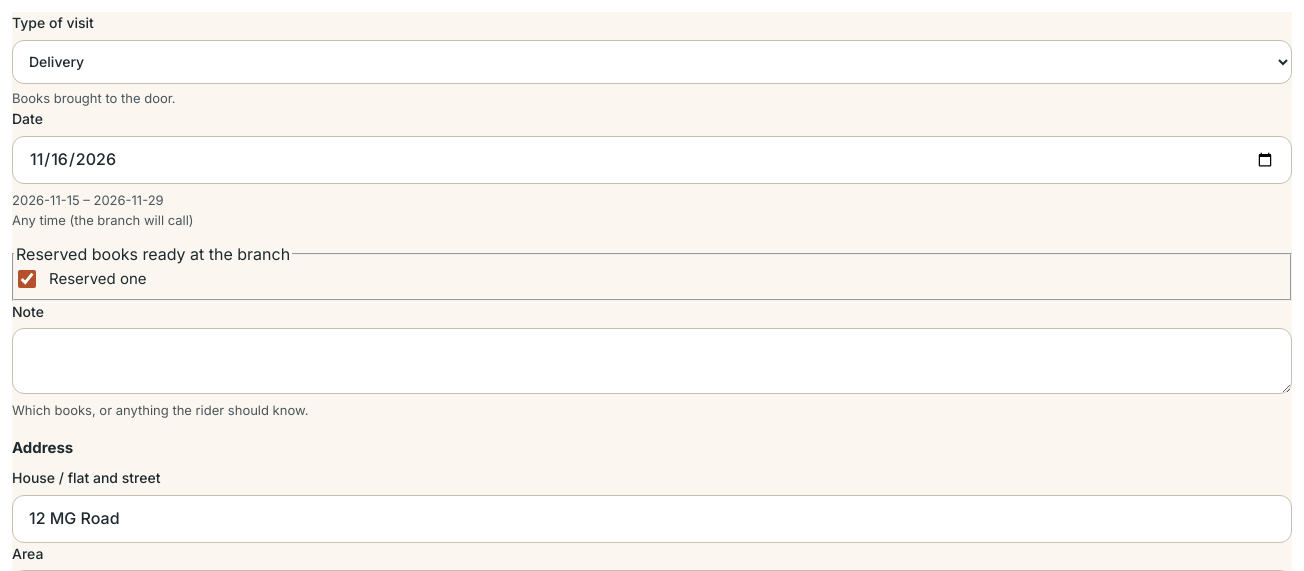
Test case: booking a home visit › ticks the books when the visit is changed to a pickup with none chosen, and leaves an exchange for staff to choose
The image size is (1304, 571).
Later steps or results of the test are not shown.
Select "Exchange" in the dropdown labelled "Type of visit" at (652, 62), box [12,40,1292,84]
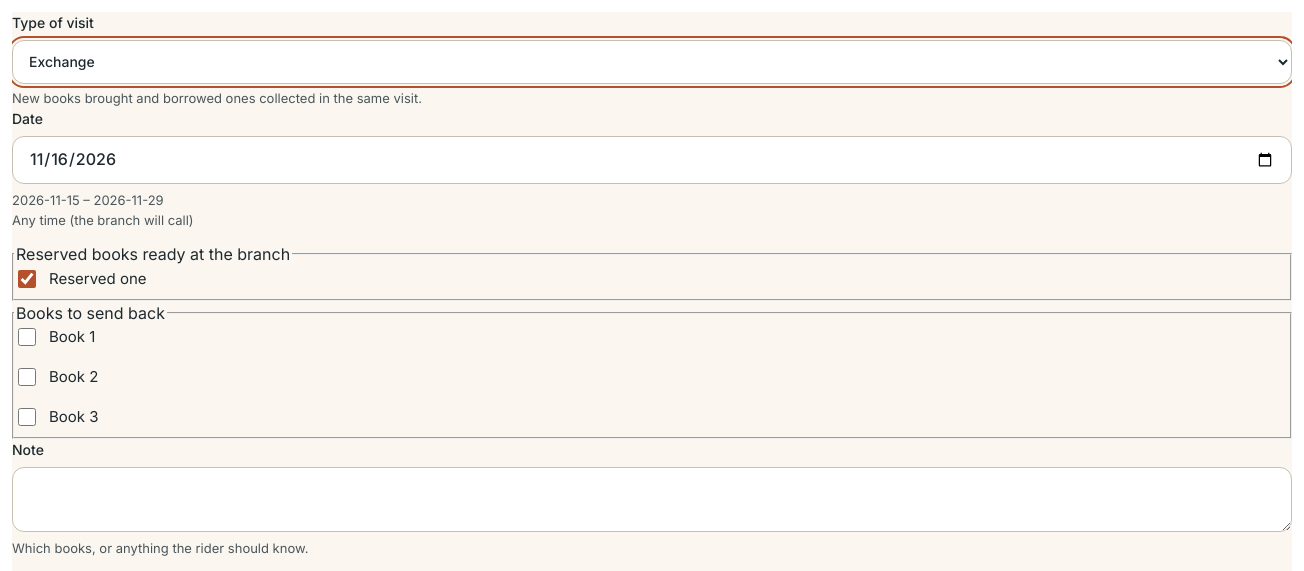
Expected: the checkbox labelled "Book 1" is not checked, [18,328,36,346]
Expected: the checkbox labelled "Book 2" is not checked
Expected: the checkbox labelled "Book 3" is not checked, [18,408,36,426]
// A choice already made is kept when the visit becomes a pickup.
Click the checkbox labelled "Book 2".
click(27, 377)  # box [18,368,36,386]
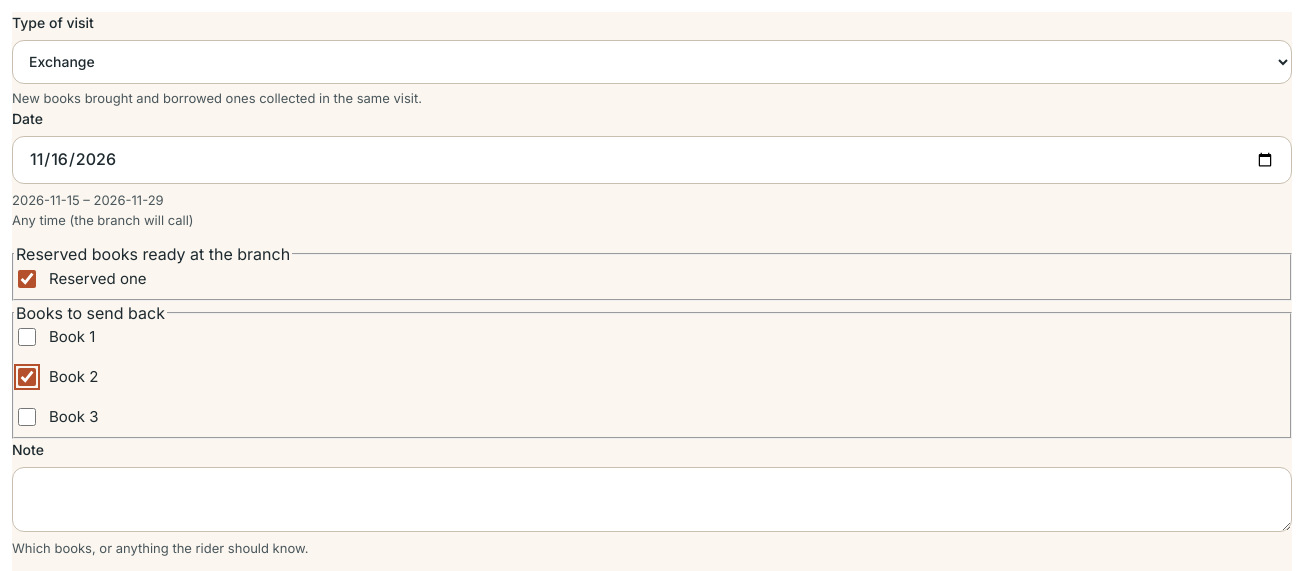
Select "Pickup" in the dropdown labelled "Type of visit" at (652, 62), box [12,40,1292,84]
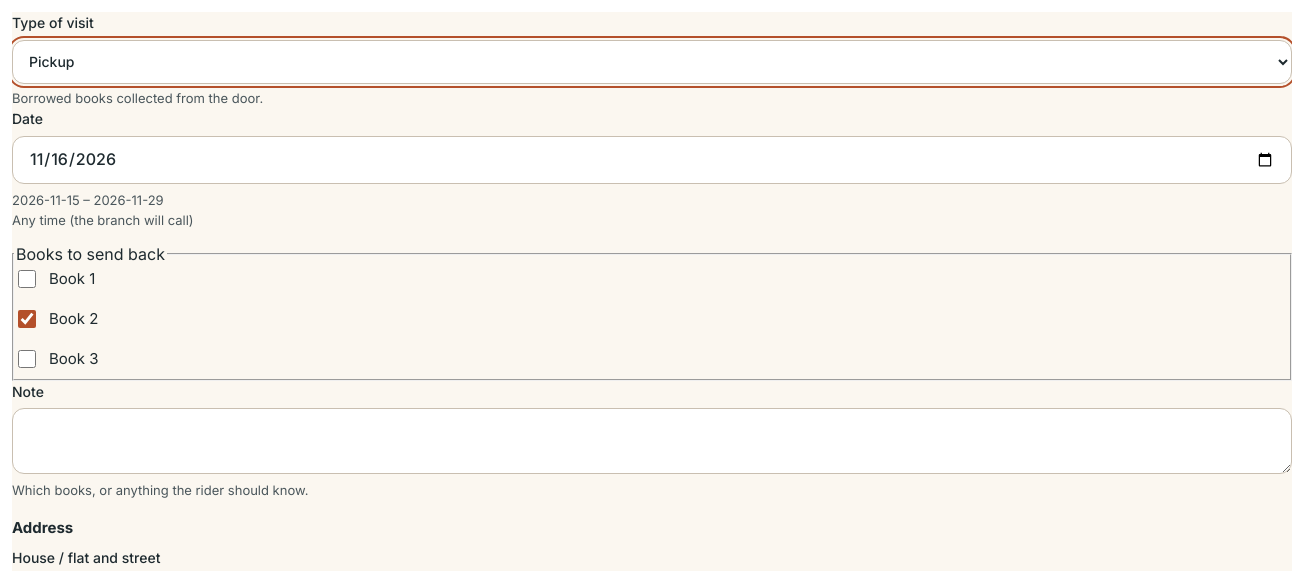
Expected: the checkbox labelled "Book 2" is checked, [18,310,36,328]
